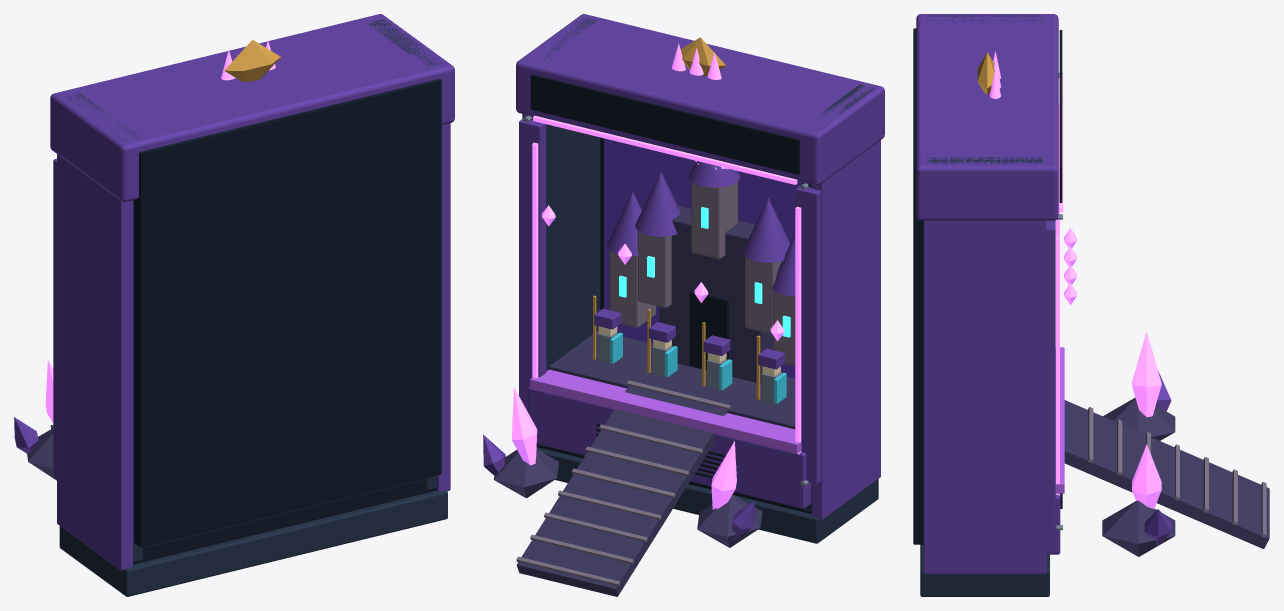
The model's file is last-throne.glb.
3 renders of one model, left to right at view 1: azimuth 30°, elevation 25°; view 2: azimuth 150°, elevation 25°; view 3: azimuth 270°, elevation 25°, orthographic. The views are drawn at different scales.
Visible parts, largest first — view 1: back, colored_side (×2), hood, base, plinth, side (×2), crown, front_rail, crystal_root, outer_crystal; view 2: hood, colored_side, entry_bridge, side (×2), front_rail (×2), tower (×5), marquee, world_backdrop, footer, castle, inner_floor, roof (×5) (+11 smaller); view 3: colored_side, hood, entry_bridge, back, crystal_root (×2), outer_crystal (×3), base, front_rail, light_rail, screen_sill, marquee, side (+2 smaller).
Part boxes in pixels (x1,y1,x2,y2): back: (134,79,441,547); colored_side (×2): (57,123,450,570); hood: (50,14,454,202); base: (59,490,447,596); plinth: (133,478,436,564); side (×2): (63,19,441,562); crown: (224,39,280,81); front_rail: (53,158,56,479); crystal_root: (27,428,56,480); outer_crystal: (14,417,38,453); hood: (516,14,884,185); colored_side: (811,140,880,519); entry_bridge: (516,385,727,596); side (×2): (536,17,874,512); front_rail (×2): (519,118,821,484); tower (×5): (609,181,795,366); marquee: (530,74,799,174); world_backdrop: (604,138,802,378); footer: (528,386,811,508); castle: (659,206,773,383); inner_floor: (549,330,795,429); roof (×5): (607,161,795,296); colored_side: (923,220,1046,573); hood: (916,14,1058,220); entry_bridge: (1064,400,1269,548); back: (913,28,923,544); crystal_root (×2): (1102,397,1175,556); outer_crystal (×3): (1132,331,1171,545); base: (920,544,1049,596); front_rail: (1046,220,1055,532); light_rail: (1056,237,1059,495); screen_sill: (1055,347,1064,493); marquee: (1059,30,1062,202); side: (927,157,1042,164).
Bounding box in the file's own units: 3.23 × 4.58 × 3.13.
